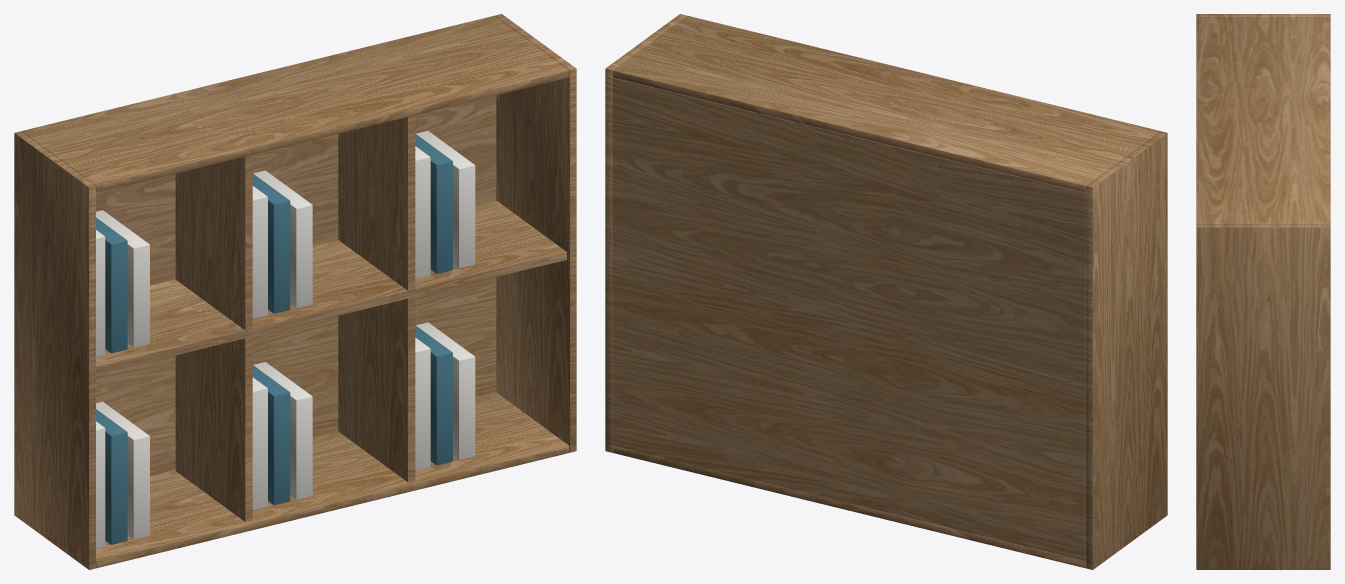
File: libreria_baja_libros_base.glb
The picture shows the model from 3 angles, left to right: view 1: azimuth 30°, elevation 25°; view 2: azimuth 150°, elevation 25°; view 3: azimuth 270°, elevation 25°; orthographic projection. The views are drawn at different scales.
Visible parts, largest first — view 1: libreria_baja_libros_base; view 2: libreria_baja_libros_base; view 3: libreria_baja_libros_base.
Boxes of the visible parts, x1,y1,x2,y2 form: libreria_baja_libros_base: [14, 14, 576, 569]; libreria_baja_libros_base: [605, 14, 1167, 569]; libreria_baja_libros_base: [1196, 14, 1330, 569].
Bounding box in the file's own units: 1.2 × 0.9 × 0.32.
4 materials, 1 textured.
